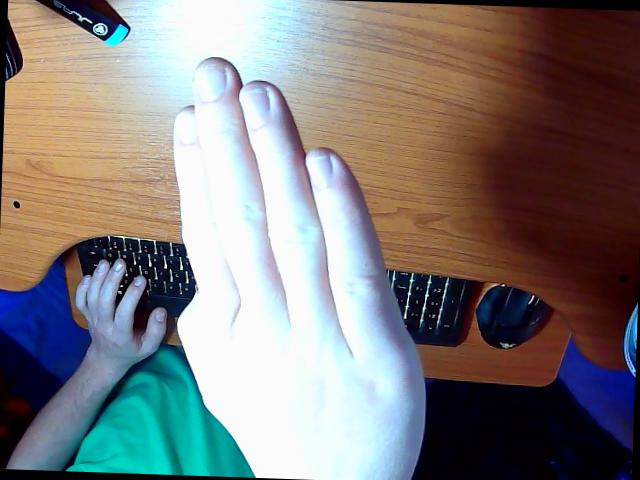paper: (174, 59, 423, 480)
